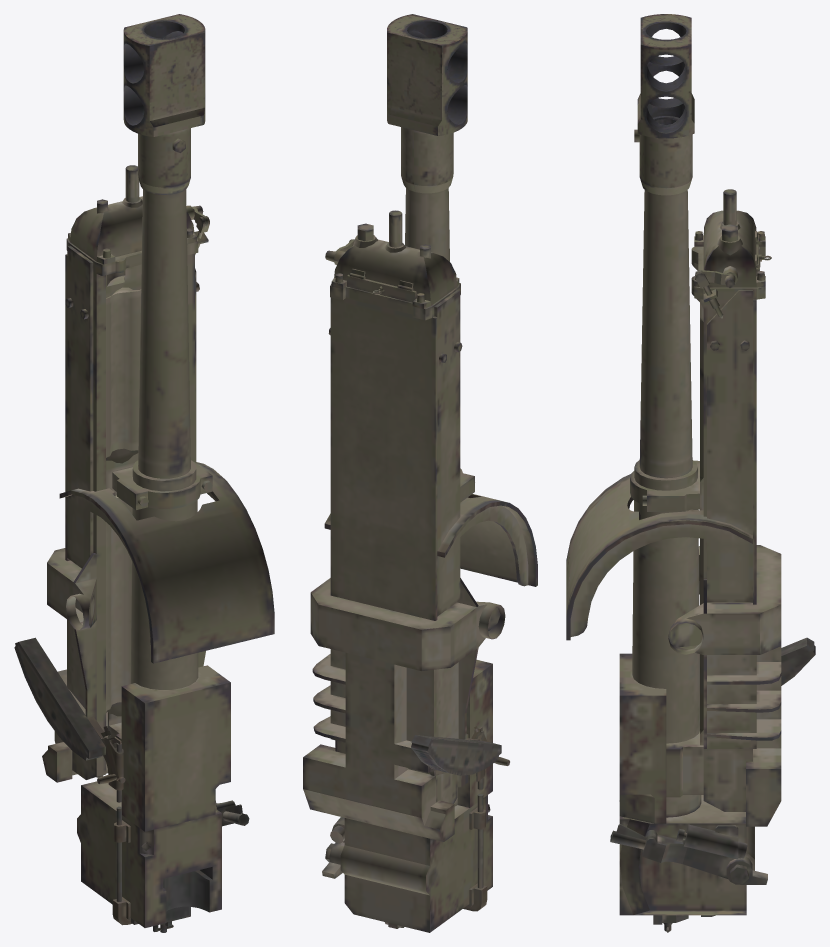
Rendered from Gun_02.glb.
3 views of the same model, side by side, from view 1: azimuth 30°, elevation 25°; view 2: azimuth 150°, elevation 25°; view 3: azimuth 270°, elevation 25° (orthographic).
Parts seen in each view (by area): view 1: set_0_group_0; view 2: set_0_group_0; view 3: set_0_group_0.
Part boxes in pixels (bbox=[...]): set_0_group_0: bbox=[14, 14, 274, 932]; set_0_group_0: bbox=[303, 14, 537, 932]; set_0_group_0: bbox=[566, 14, 815, 932].
Size of the model in its own units: 0.5201 by 2.81 by 0.7057.
Materials: 1 (1 with a texture image).
